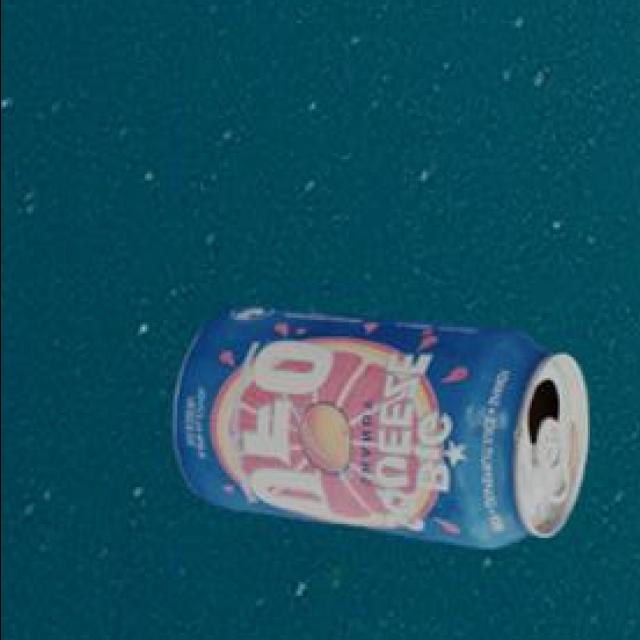logam: (177, 312, 590, 551)
